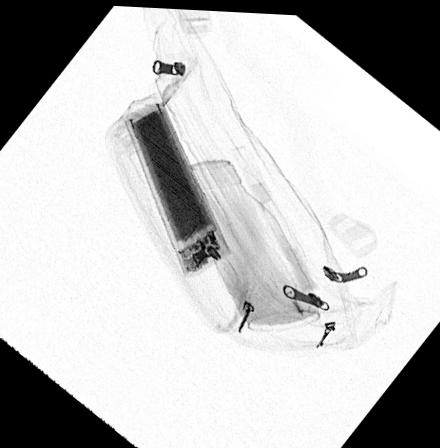Powerbank: (123, 98, 231, 278)
